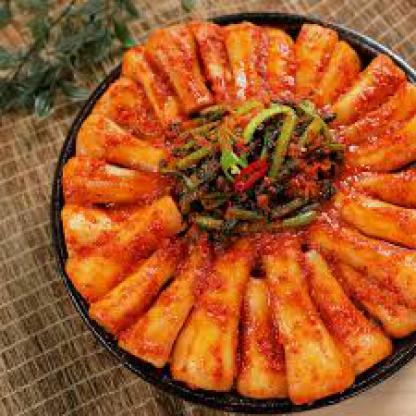chonggak Kimchi: (67, 26, 414, 396)
